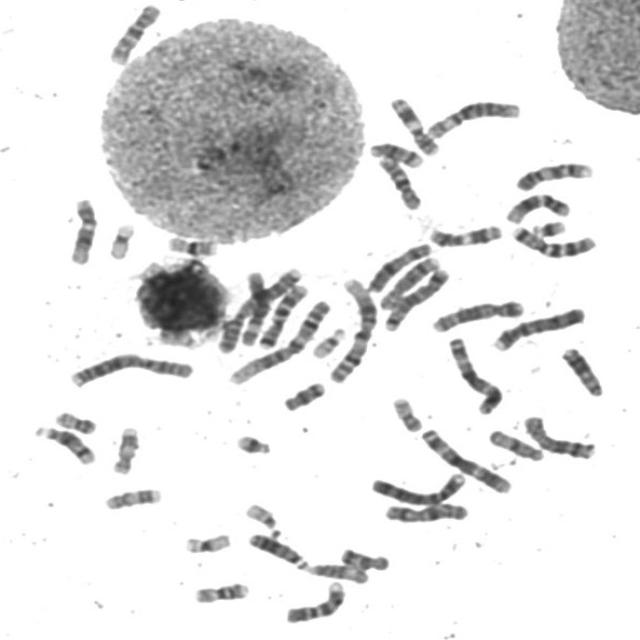A1: (224, 296, 334, 386), (324, 274, 379, 384)
A2: (210, 264, 304, 354), (64, 348, 195, 389)
A3: (416, 424, 514, 494), (444, 333, 505, 415)
B4: (488, 302, 587, 353), (366, 468, 469, 507)
B5: (379, 264, 452, 332), (427, 296, 527, 334)
C10: (103, 0, 163, 66), (374, 152, 424, 211)
C11: (386, 93, 442, 156), (424, 220, 504, 248)
C12: (501, 189, 572, 226), (63, 193, 98, 266)
C6: (422, 95, 522, 141), (237, 266, 271, 348)
C7: (254, 279, 310, 350), (506, 221, 599, 260)
C8: (374, 251, 442, 312), (519, 411, 598, 461)
C9: (280, 577, 348, 625), (510, 157, 594, 193)
D13: (243, 528, 310, 571), (557, 343, 605, 398)
D14: (29, 422, 97, 465), (365, 137, 425, 169)
D15: (484, 425, 546, 463), (302, 558, 370, 586)
E16: (189, 578, 250, 605), (162, 232, 220, 257)
E17: (107, 422, 141, 476), (98, 484, 163, 512)
E18: (278, 377, 327, 413), (336, 544, 390, 572)
F19: (104, 218, 137, 261), (179, 529, 233, 555)
F20: (388, 392, 424, 433), (50, 406, 98, 436)
G21: (231, 430, 274, 456), (526, 216, 568, 238)
G22: (307, 323, 348, 360), (240, 498, 280, 532)
X: (362, 239, 433, 295), (380, 499, 470, 525)
